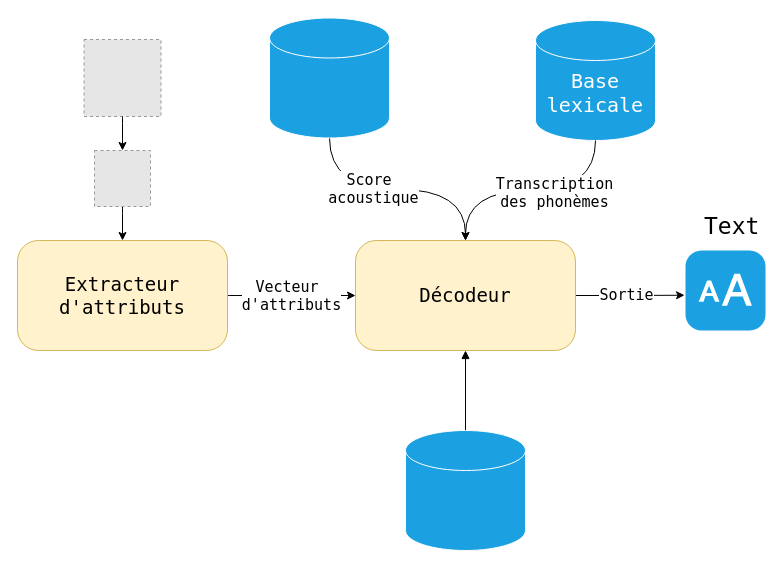
Image size: 783x568. Some labels were removed from this diagram. Grey dashed boxes stand in for pictures. The centre of each missing label's shape, as x and y in pixels:
"Modèle acoustique" belongs at point (329, 77).
"Modèle de langue" belongs at point (465, 490).
